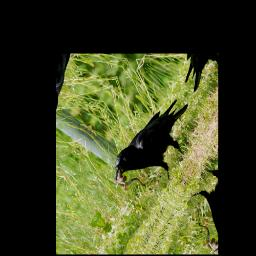Crow: (106, 83, 203, 210)
